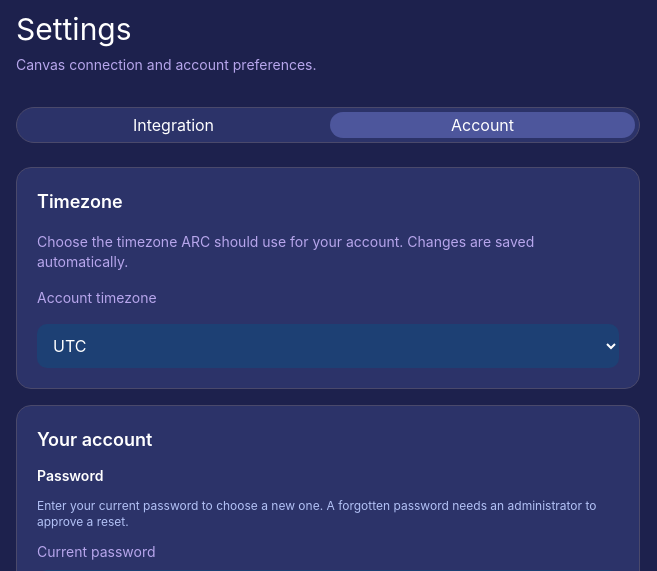
it: saves timezone, updates auth state, and invalidates queries
The image size is (657, 571).
Select "Asia/Tokyo" in the dropdown labelled "Account timezone" at (328, 346), box [37,324,619,368]
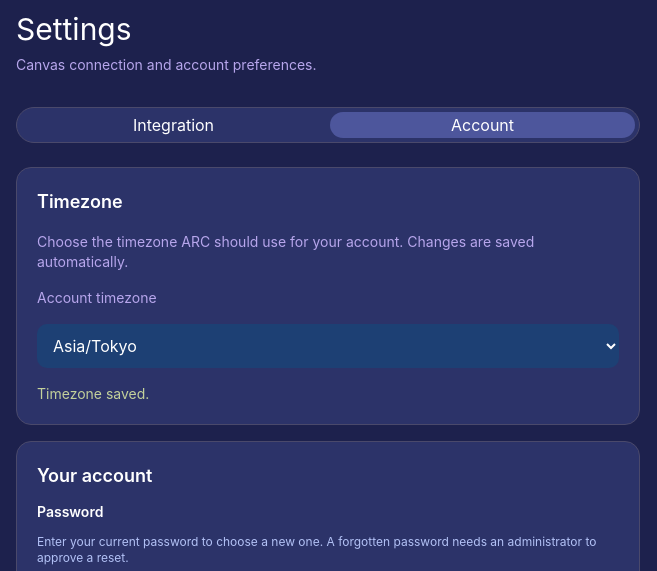
Now the text "Timezone saved." is shown, box [37,385,149,402]
